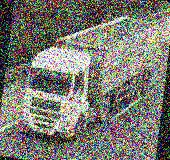truck: (18, 6, 163, 151)
